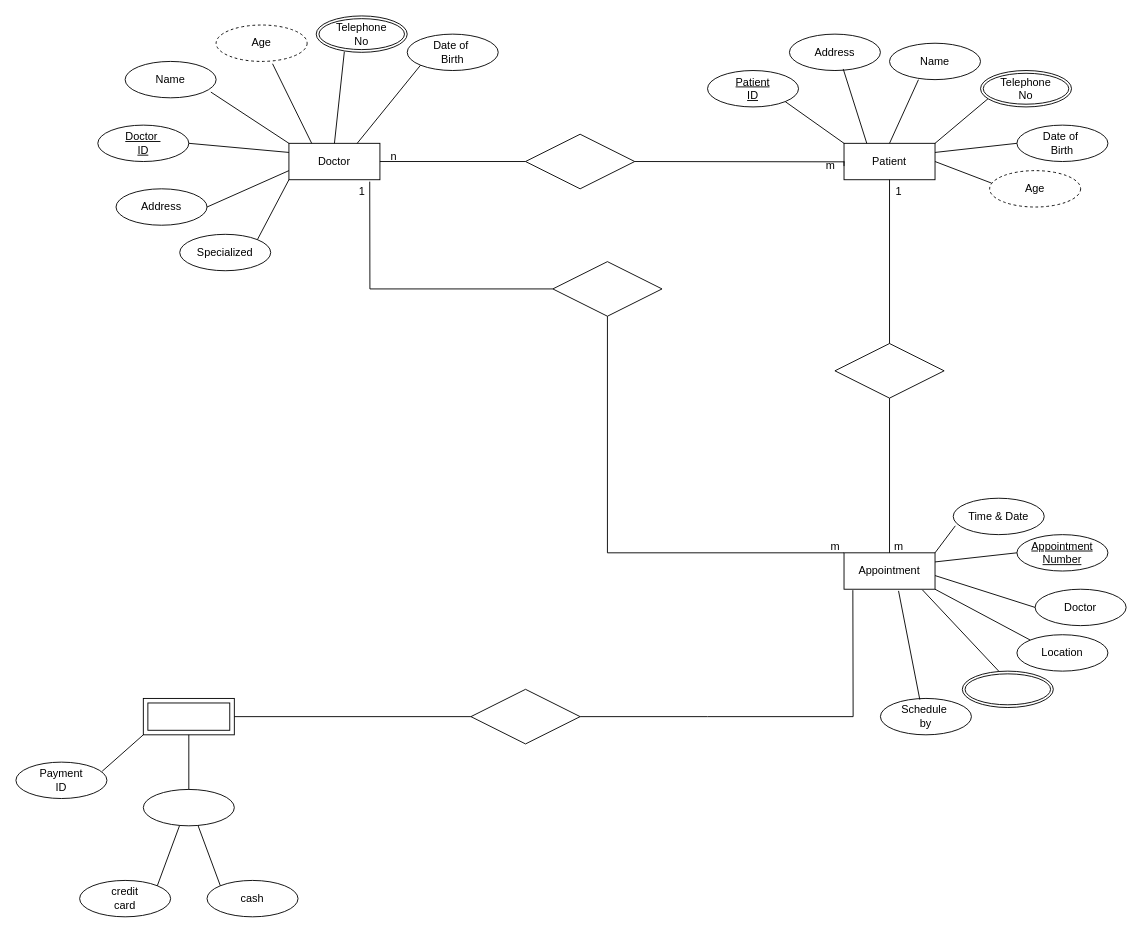
The diagram is 1142 pixels wide and 933 high, and some of its shapes have lost their labels. The shapes that lost their labels are listed below. From the top down, each one's centre as x and y in pixels, then its label:
[580,161]: Treats
[607,288]: Heads
[889,370]: Make
[1007,689]: Contact number
[188,716]: Payments
[525,716]: Recorded
[188,807]: Mode of payments
